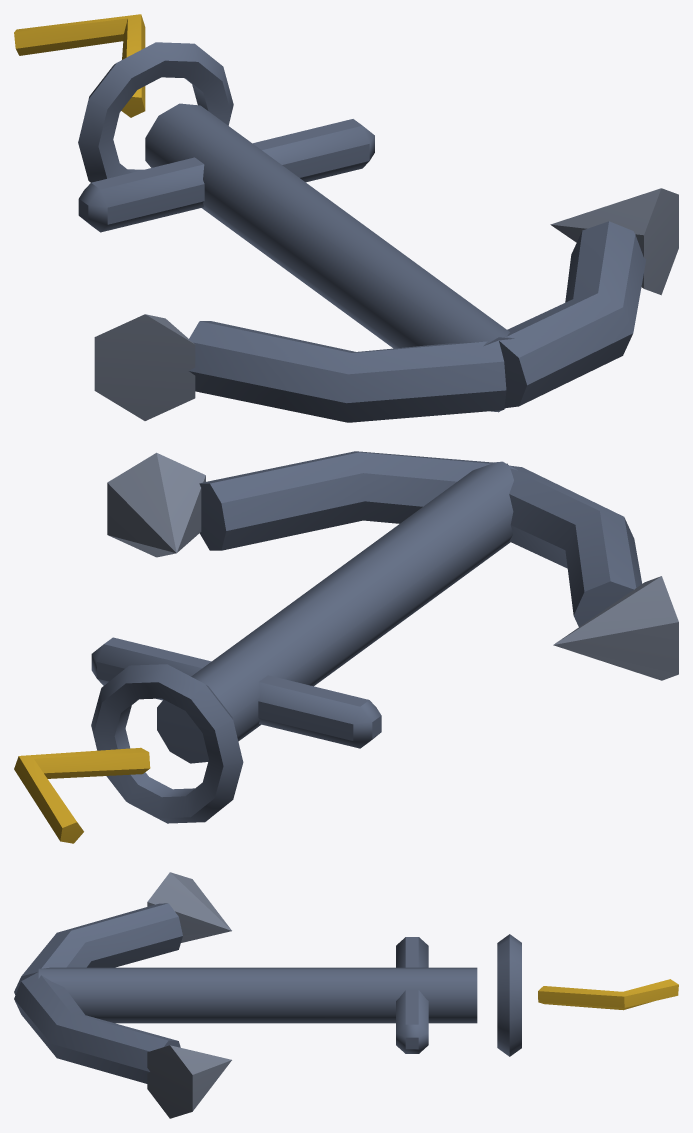
File: w_n_anchor.glb
The picture shows the model from 3 angles, top to bottom: view 1: azimuth 30°, elevation 25°; view 2: azimuth 150°, elevation 25°; view 3: azimuth 270°, elevation 25°; orthographic projection. The views are drawn at different scales.
Visible parts, largest first — view 1: body; view 2: body; view 3: body.
Part boxes in pixels (box(x1,y1,x2,y2)): body: box(14, 14, 678, 422); body: box(14, 451, 678, 843); body: box(14, 872, 678, 1118).
Size of the model in its own units: 0.2853 by 0.076 by 0.4093.
